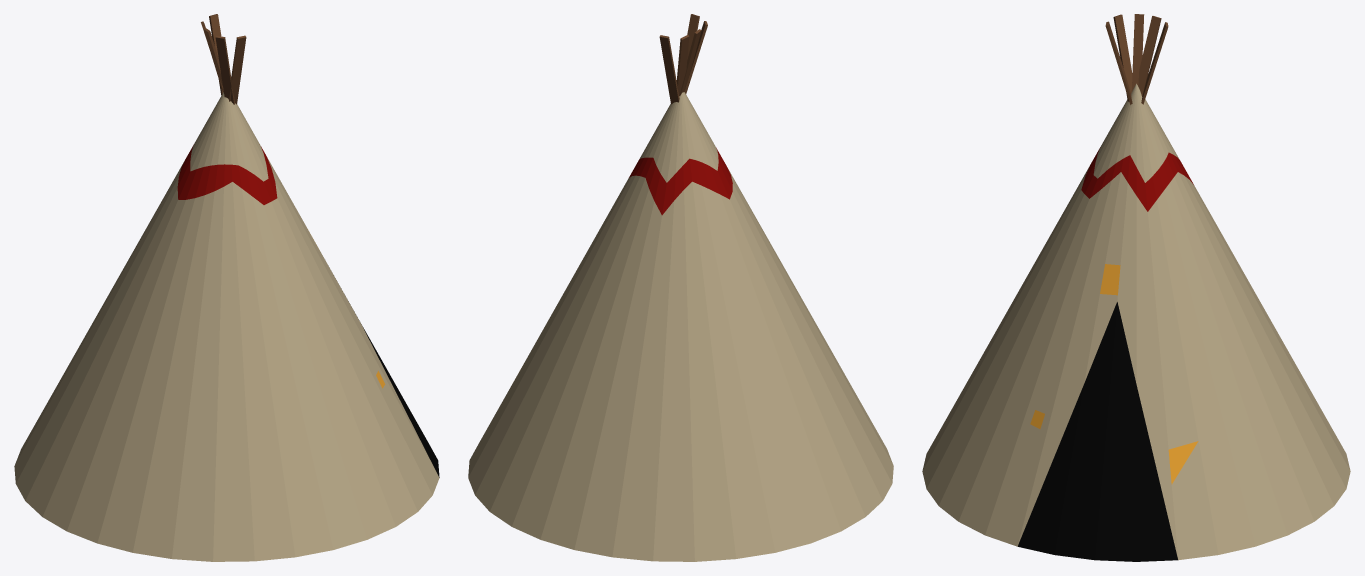
Rendered from TeePeeHut.fbx.
3 views of the same model, side by side, from view 1: azimuth 30°, elevation 25°; view 2: azimuth 150°, elevation 25°; view 3: azimuth 270°, elevation 25° (orthographic).
Visible parts, largest first — view 1: Cone, Cube.004, Cube.002; view 2: Cone, Cube.003; view 3: Cone, Cube.001, Cube.004, Cube.
Boxes of the visible parts, x1=… form: Cone: x1=14, y1=92, x2=439, y2=561; Cube.004: x1=215, y1=35, x2=235, y2=104; Cube.002: x1=228, y1=35, x2=246, y2=104; Cone: x1=468, y1=92, x2=893, y2=561; Cube.003: x1=659, y1=35, x2=679, y2=104; Cone: x1=922, y1=83, x2=1350, y2=561; Cube.001: x1=1138, y1=16, x2=1161, y2=96; Cube.004: x1=1113, y1=14, x2=1132, y2=101; Cube: x1=1131, y1=14, x2=1144, y2=91.
Size of the model in its own units: 732 by 845 by 732.
